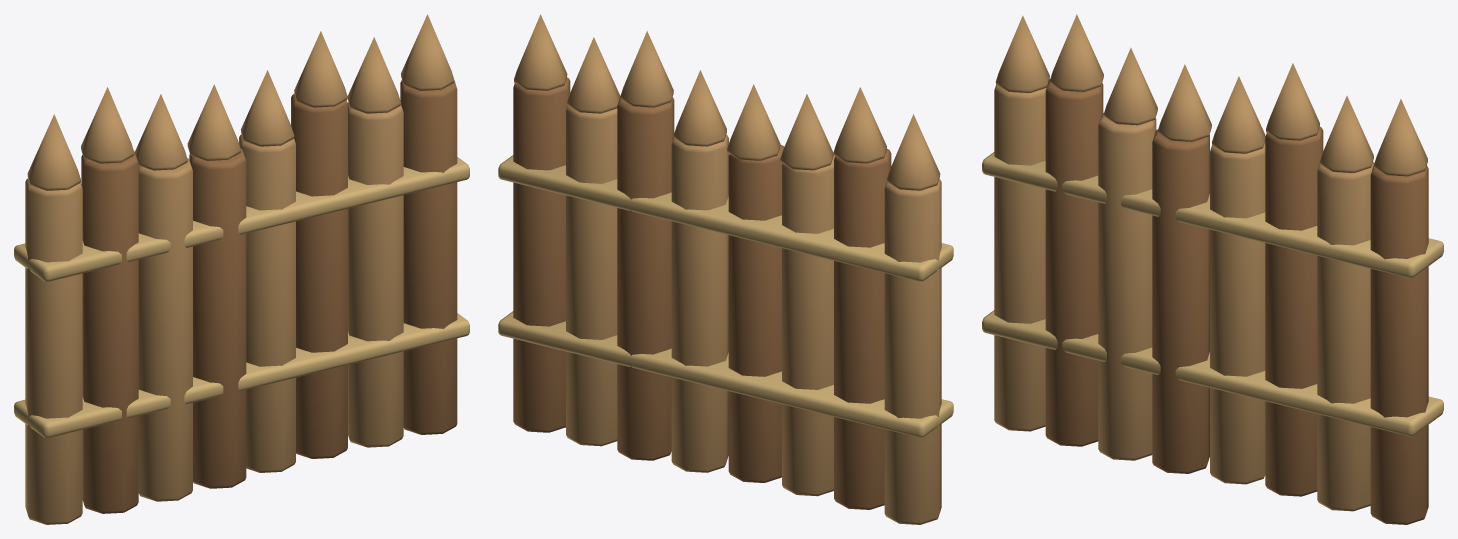
File: WallSegment.glb
3 renders of one model, left to right at view 1: azimuth 30°, elevation 25°; view 2: azimuth 150°, elevation 25°; view 3: azimuth 330°, elevation 25°, orthographic.
Parts seen in each view (by area): view 1: WallSegment; view 2: WallSegment; view 3: WallSegment.
Part boxes in pixels (x1=…): WallSegment: x1=14, y1=14, x2=469, y2=524; WallSegment: x1=498, y1=14, x2=953, y2=524; WallSegment: x1=982, y1=14, x2=1443, y2=524.
Bounding box in the file's own units: 2 × 1.88 × 0.2845.
